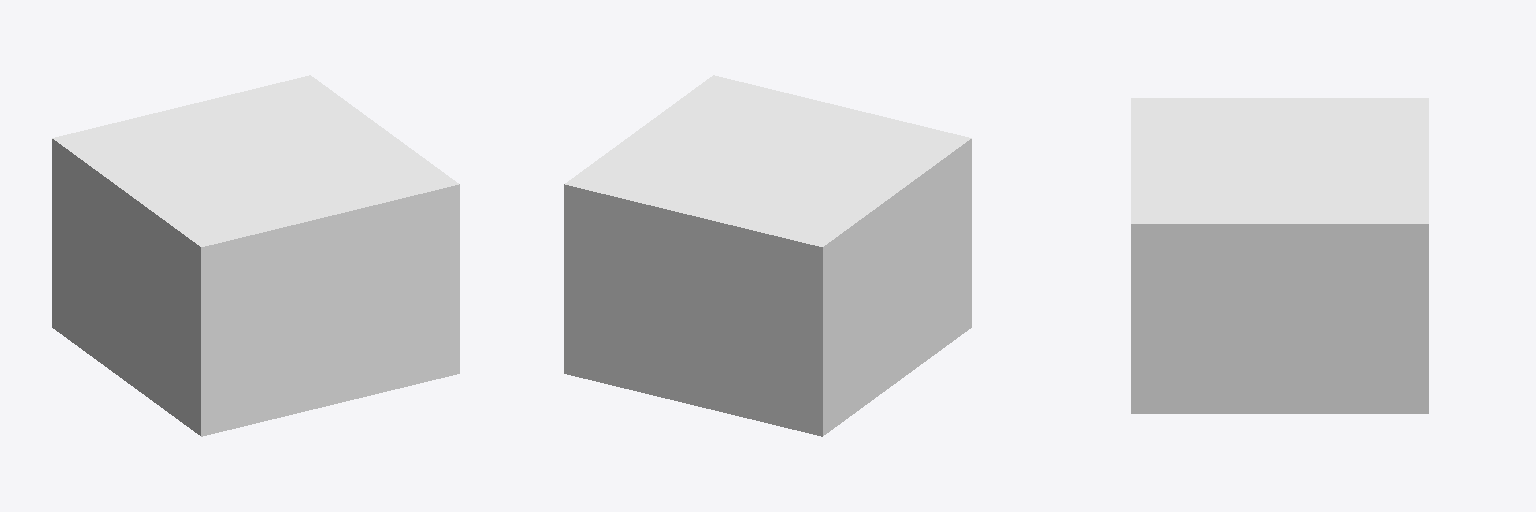
File: ticket_sell.obj
3 views of the same model, side by side, from view 1: azimuth 30°, elevation 25°; view 2: azimuth 150°, elevation 25°; view 3: azimuth 270°, elevation 25° (orthographic).
Parts seen in each view (by area): view 1: ticket_sell; view 2: ticket_sell; view 3: ticket_sell.
Boxes of the visible parts, x1,y1,x2,y2 form: ticket_sell: [52, 75, 459, 436]; ticket_sell: [564, 75, 971, 436]; ticket_sell: [1131, 98, 1428, 413].
Size of the model in its own units: 10 by 7 by 10.